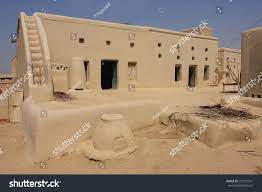Mud House: (13, 7, 245, 133)
